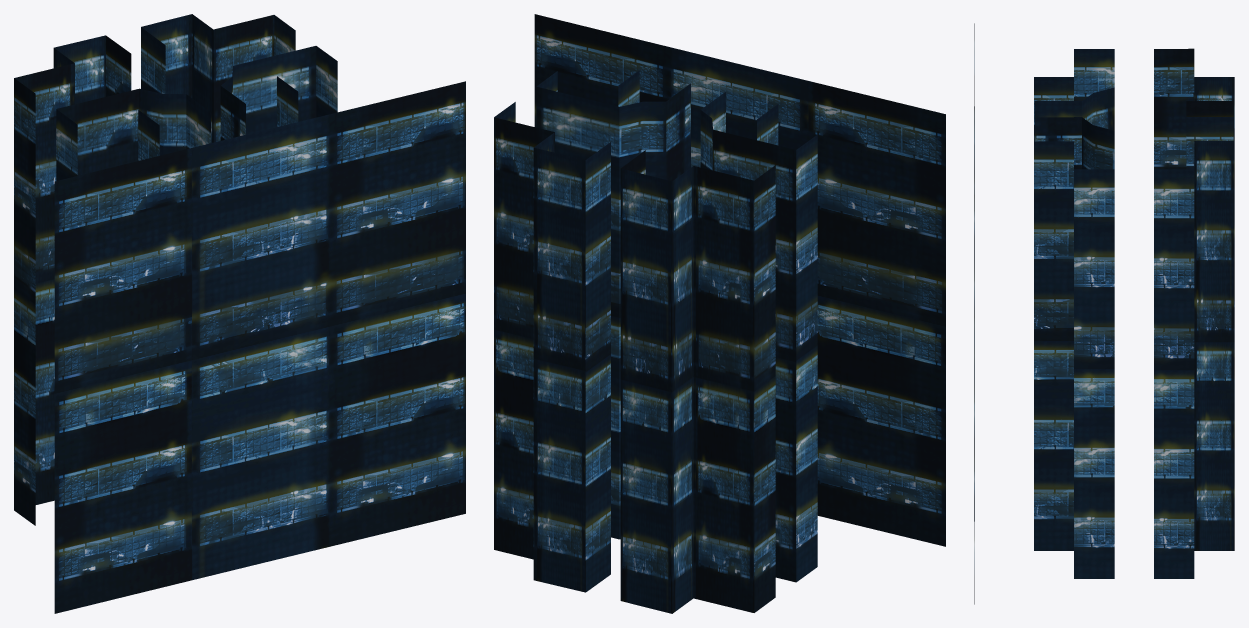
The model's file is Case_tile.fbx.
3 renders of one model, left to right at view 1: azimuth 30°, elevation 25°; view 2: azimuth 150°, elevation 25°; view 3: azimuth 270°, elevation 25°, orthographic. The views are drawn at different scales.
Parts seen in each view (by area): view 1: Arena_deep; view 2: Arena_deep; view 3: Arena_deep.
Boxes of the visible parts, left/top/right/bottom form: Arena_deep: left=14, top=14, right=465, bottom=613; Arena_deep: left=494, top=14, right=945, bottom=613; Arena_deep: left=974, top=23, right=1234, bottom=604.
Size of the model in its own units: 9.95 by 10.01 by 5.75.
Materials: 1 (1 with a texture image).
